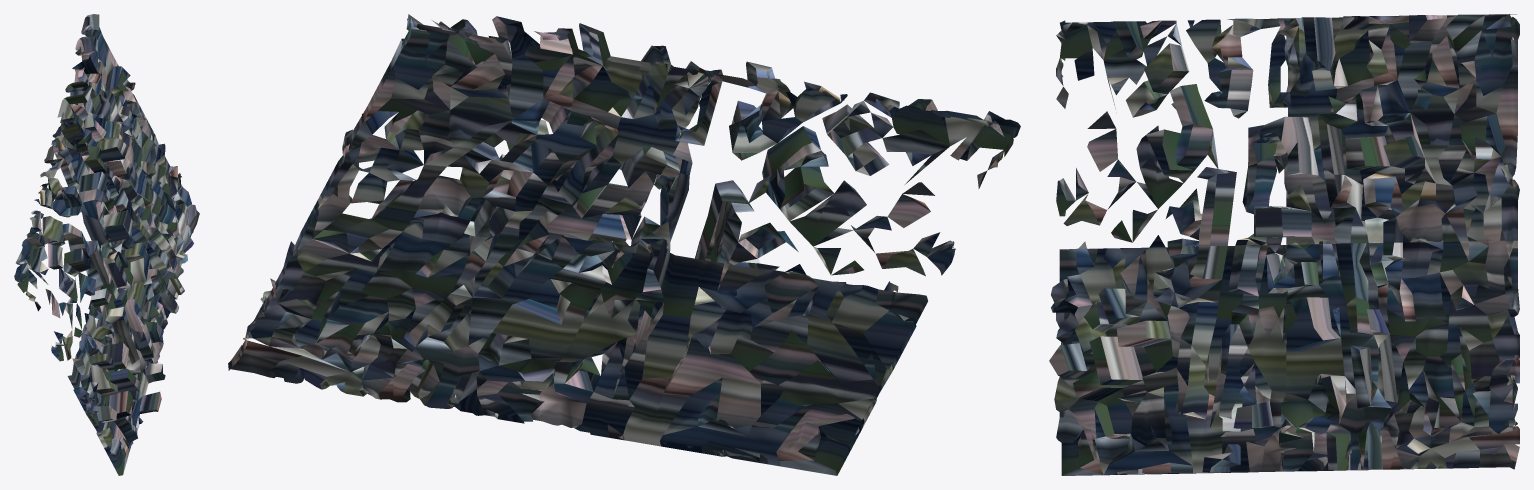
3 views of the same model, side by side, from view 1: azimuth 30°, elevation 25°; view 2: azimuth 150°, elevation 25°; view 3: azimuth 270°, elevation 25° (orthographic). The views are drawn at different scales.
Parts seen in each view (by area): view 1: node_3043627270436140_mesh0, node_3043627270436140_mesh1; view 2: node_3043627270436140_mesh0, node_3043627270436140_mesh1; view 3: node_3043627270436140_mesh0, node_3043627270436140_mesh1.
Boxes of the visible parts, x1,y1,x2,y2 form: node_3043627270436140_mesh0: (14,16,199,475); node_3043627270436140_mesh1: (18,14,193,428); node_3043627270436140_mesh0: (228,16,1020,475); node_3043627270436140_mesh1: (263,14,1015,455); node_3043627270436140_mesh0: (1049,14,1519,475); node_3043627270436140_mesh1: (1051,14,1519,474).
Bounding box in the file's own units: 585 × 585 × 454.
2 materials, 2 textured.
